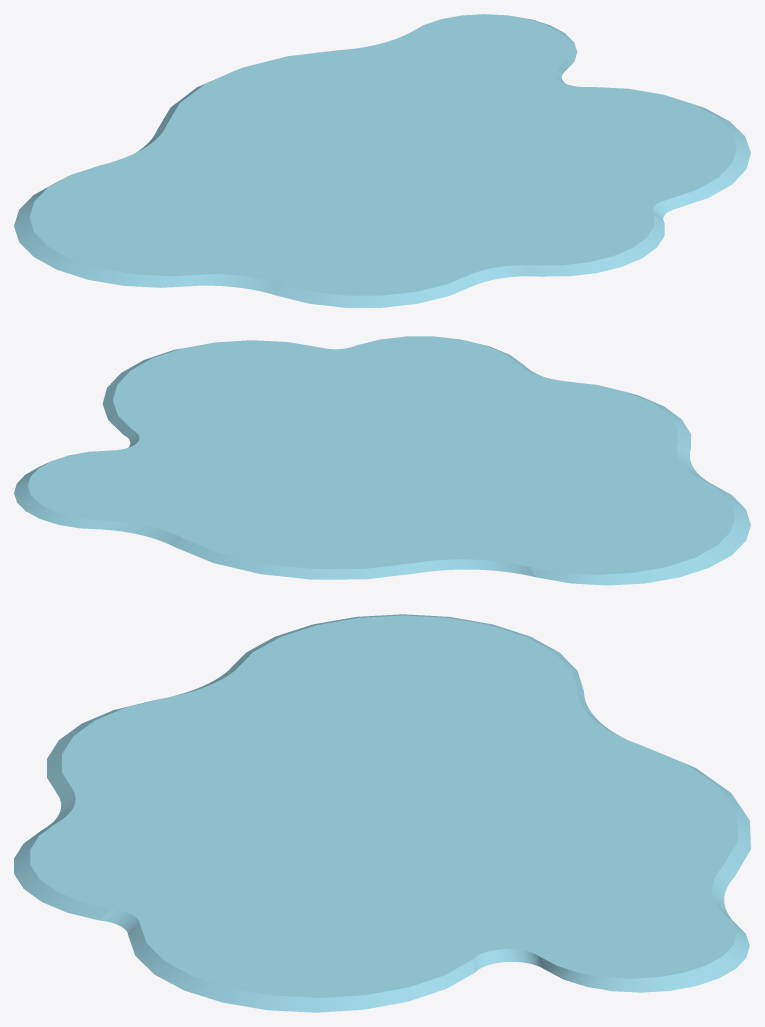
File: Ice.fbx
3 views of the same model, one above another, from view 1: azimuth 30°, elevation 25°; view 2: azimuth 150°, elevation 25°; view 3: azimuth 270°, elevation 25° (orthographic). The views are drawn at different scales.
Visible parts, largest first — view 1: Ice; view 2: Ice; view 3: Ice.
Part boxes in pixels (box(x1,y1,x2,y2)): Ice: box(14, 14, 750, 307); Ice: box(14, 336, 750, 585); Ice: box(14, 614, 750, 1012).
Bounding box in the file's own units: 22.67 × 0.2087 × 17.72.
